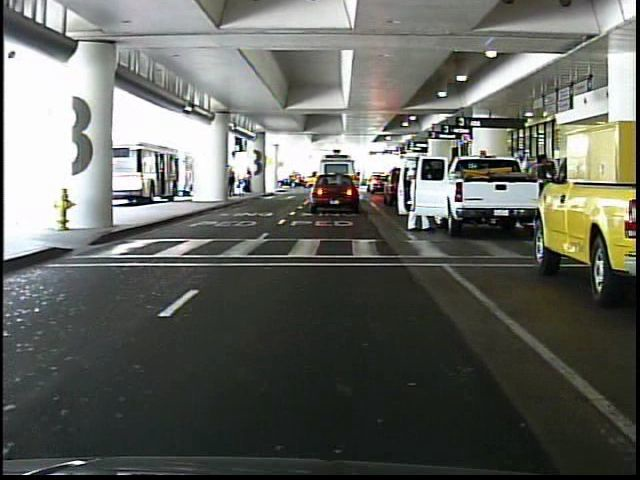person: (405, 149, 434, 234), (225, 163, 237, 198), (243, 165, 256, 195)
